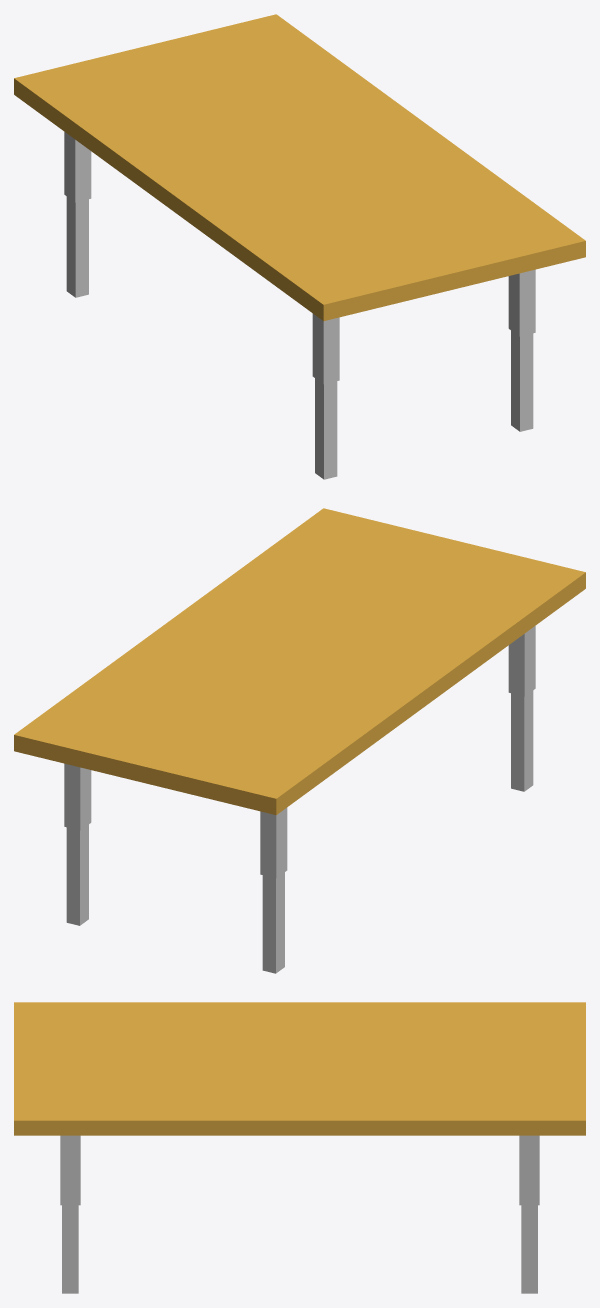
Rendered from table.gltf.
The picture shows the model from 3 angles, top to bottom: view 1: azimuth 30°, elevation 25°; view 2: azimuth 150°, elevation 25°; view 3: azimuth 270°, elevation 25°; orthographic projection. The views are drawn at different scales.
Parts seen in each view (by area): view 1: Cube; view 2: Cube; view 3: Cube.
Part boxes in pixels (bbox=[...]): Cube: bbox=[14, 14, 585, 479]; Cube: bbox=[14, 508, 585, 973]; Cube: bbox=[14, 1002, 585, 1293].
Size of the model in its own units: 3.1 by 2.26 by 6.34.
